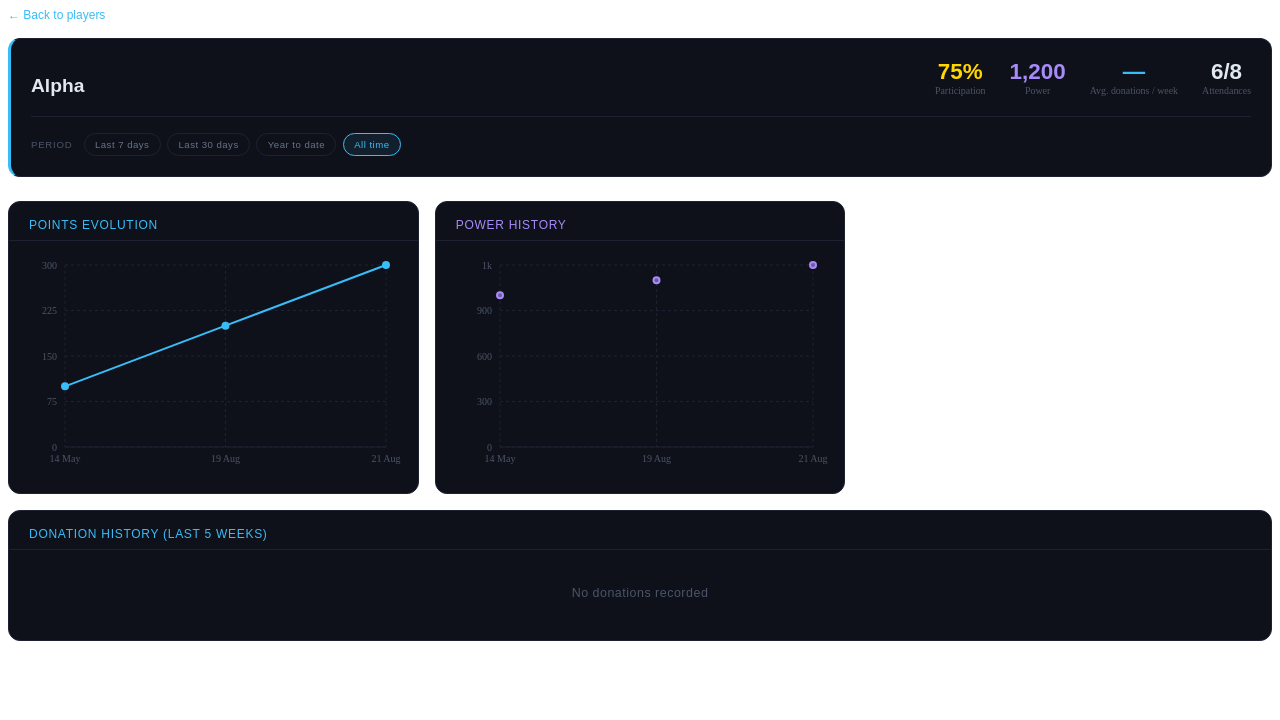
Test: PlayerDetailPage — period filter › recomputes the rate for a selected period from the loaded participations
Expected: the element with test id "participation-card" shows "75%", [938,59,983,84]
Click the button "Last 7 days".
click(122, 144)  # box [84,133,161,156]
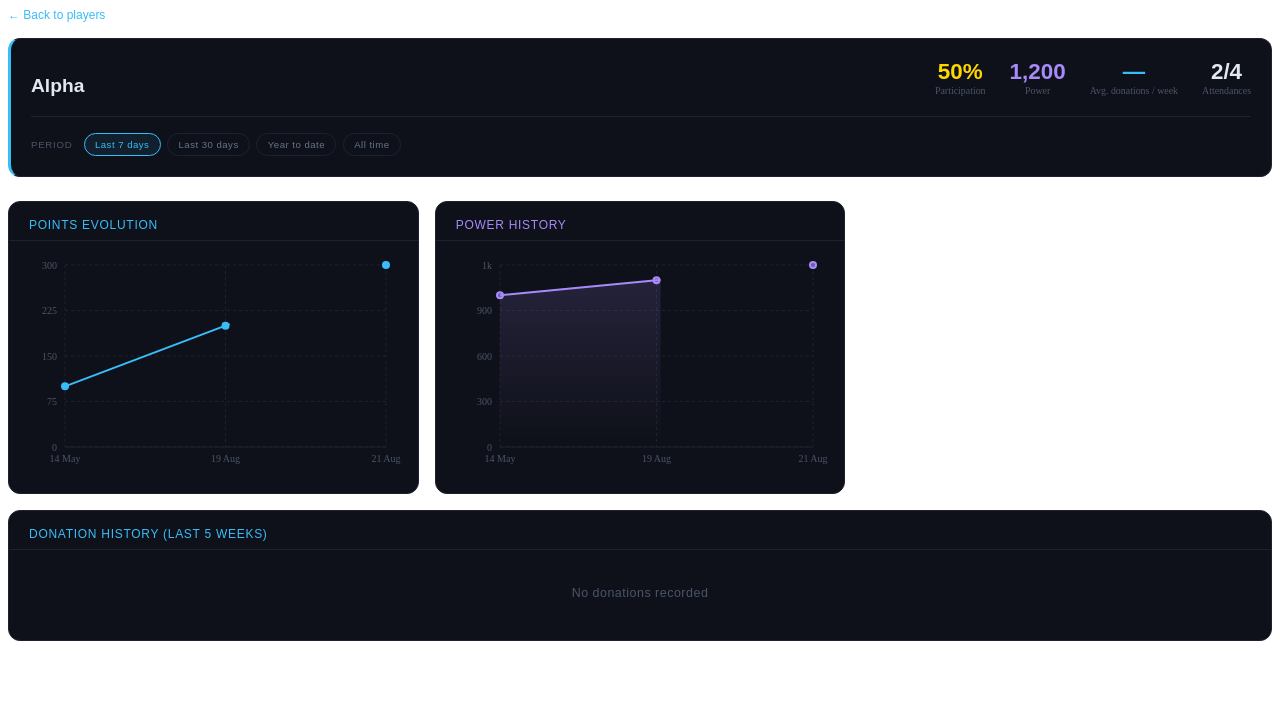
Now the element with test id "participation-card" shows "50%", box [938,59,983,84]
Now the element with test id "attendances-card" shows "2/4", box [1211,59,1242,84]
